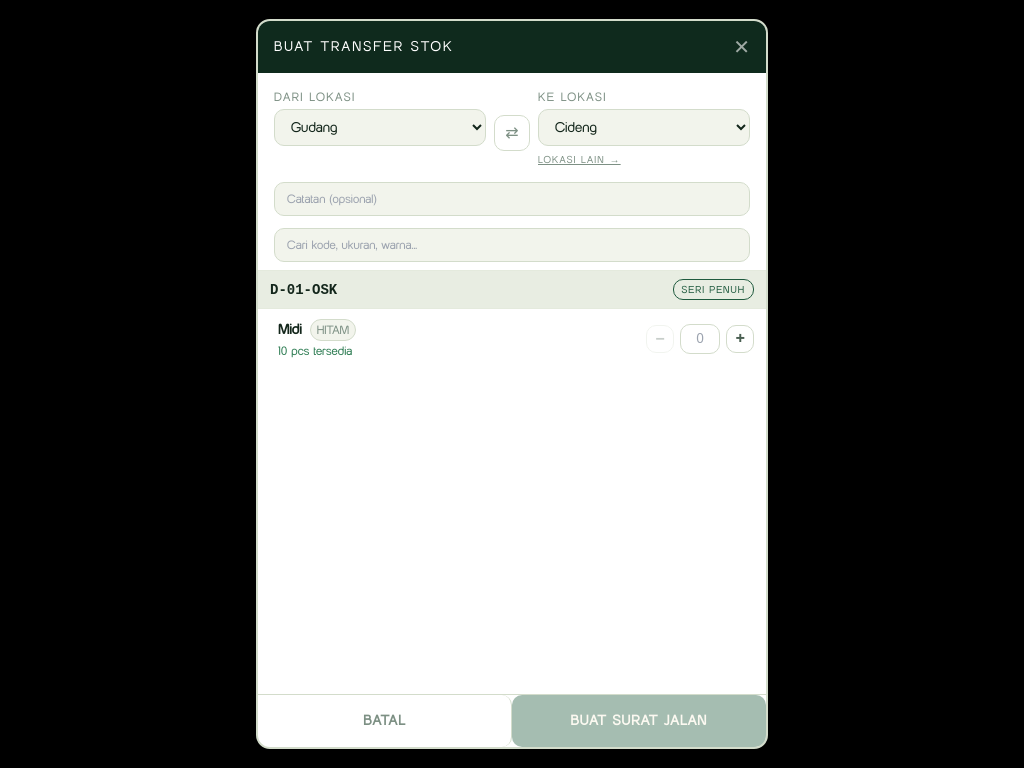
Test: TransferForm › menampilkan pesan 'tidak ada hasil' saat search tidak match
Type "XYZNOTFOUND" into the field with placeholder "Cari kode, ukuran, warna..." at point(512, 245), box [274,228,750,262]
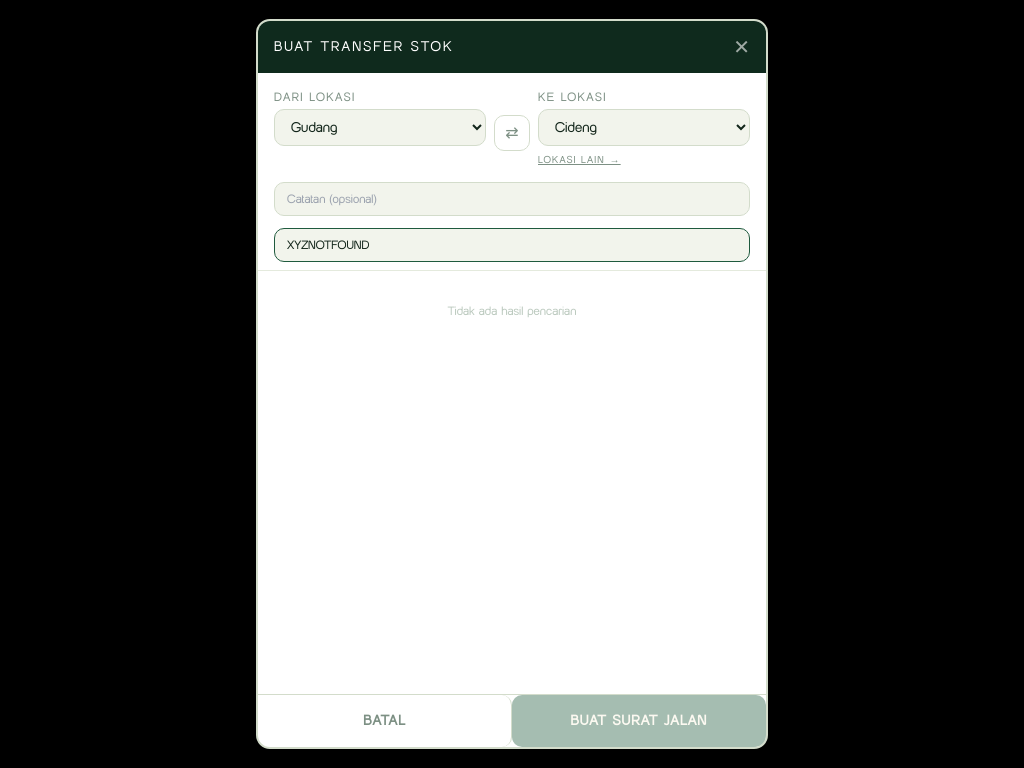
Expected: the text "Tidak ada hasil pencarian" is shown, [448,303,576,318]
